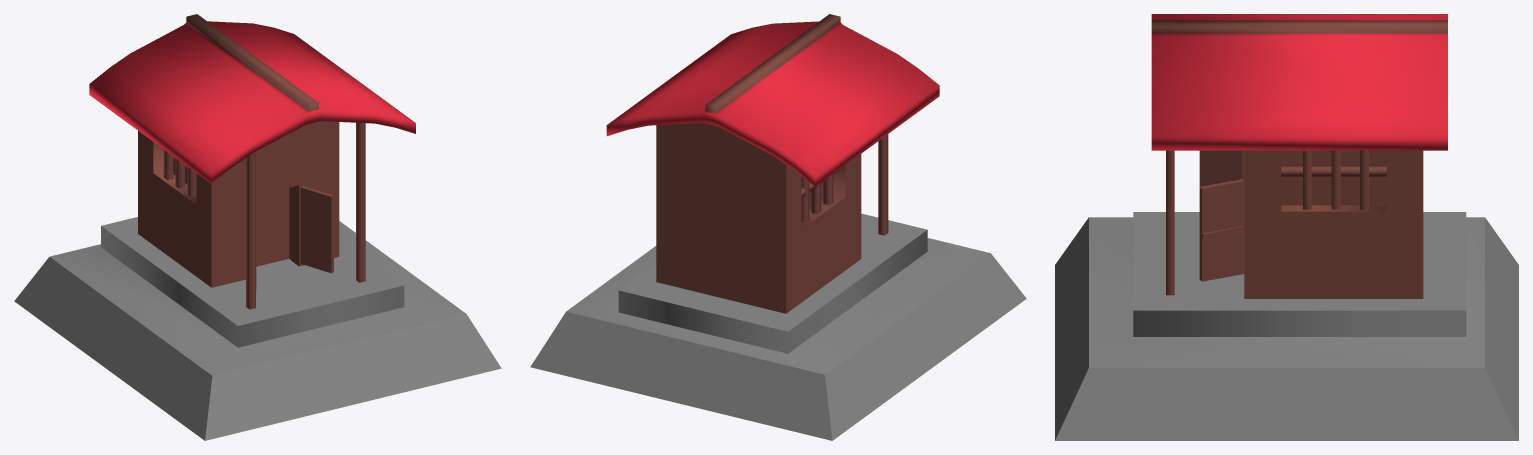
The model's file is hokora.fbx.
3 views of the same model, side by side, from view 1: azimuth 30°, elevation 25°; view 2: azimuth 150°, elevation 25°; view 3: azimuth 270°, elevation 25° (orthographic). The views are drawn at different scales.
Parts seen in each view (by area): view 1: hokora.001; view 2: hokora.001; view 3: hokora.001.
Boxes of the visible parts, x1=… form: hokora.001: x1=14, y1=14, x2=501, y2=440; hokora.001: x1=530, y1=14, x2=1026, y2=440; hokora.001: x1=1055, y1=14, x2=1518, y2=440.
Bounding box in the file's own units: 2.72 × 2.44 × 2.13.
